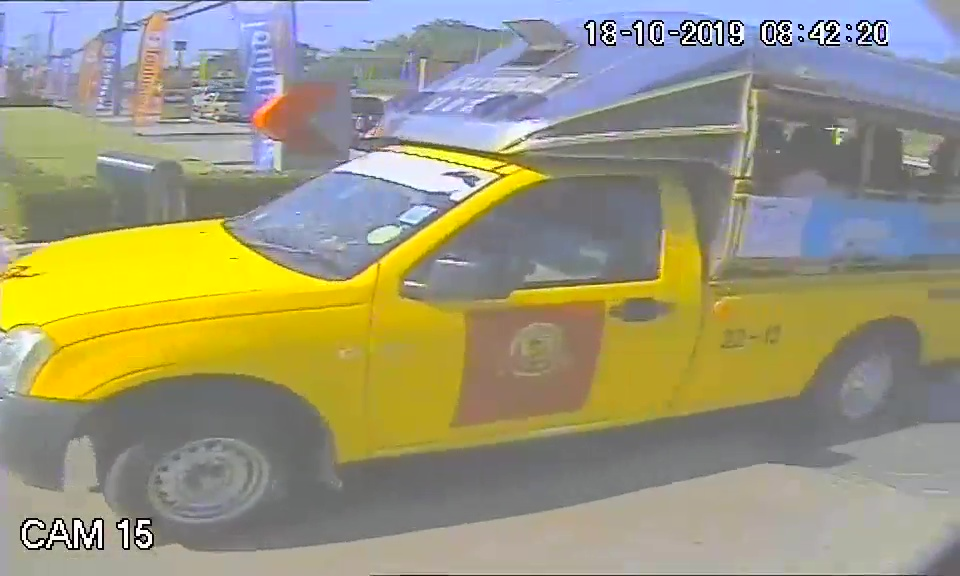pickup: (5, 135, 958, 494)
